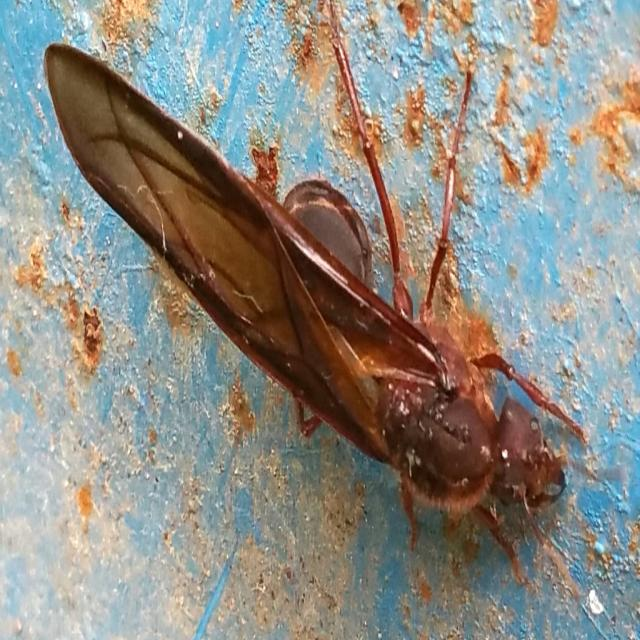Alive-Female-Alate: (42, 0, 626, 603)
